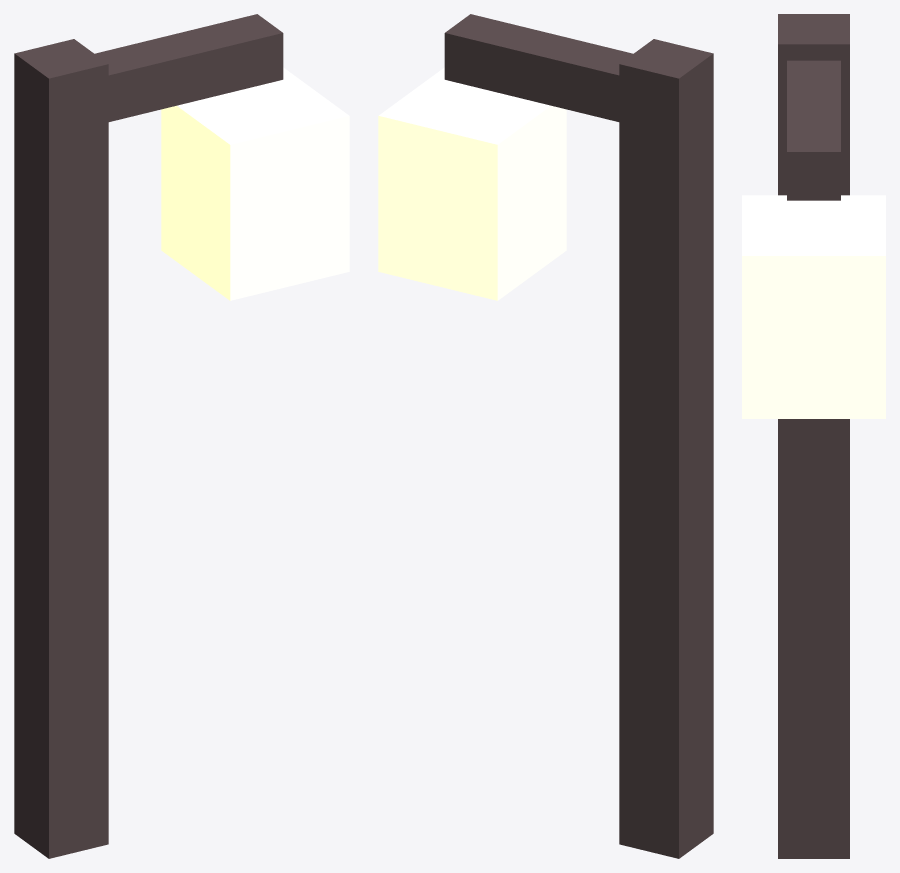
Rendered from lantern.glb.
The picture shows the model from 3 angles, left to right: view 1: azimuth 30°, elevation 25°; view 2: azimuth 150°, elevation 25°; view 3: azimuth 270°, elevation 25°; orthographic projection. The views are drawn at different scales.
Visible parts, largest first — view 1: Post, Lamp, Arm; view 2: Post, Lamp, Arm; view 3: Post, Lamp, Arm.
Boxes of the visible parts, x1,y1,x2,y2 form: Post: (14,39,108,858); Lamp: (161,67,349,300); Arm: (95,14,283,121); Post: (619,39,713,858); Lamp: (378,67,566,300); Arm: (444,14,632,121); Post: (778,14,849,858); Lamp: (742,195,885,418); Arm: (787,60,840,200).
Size of the model in its own units: 0.38 by 1 by 0.16.
